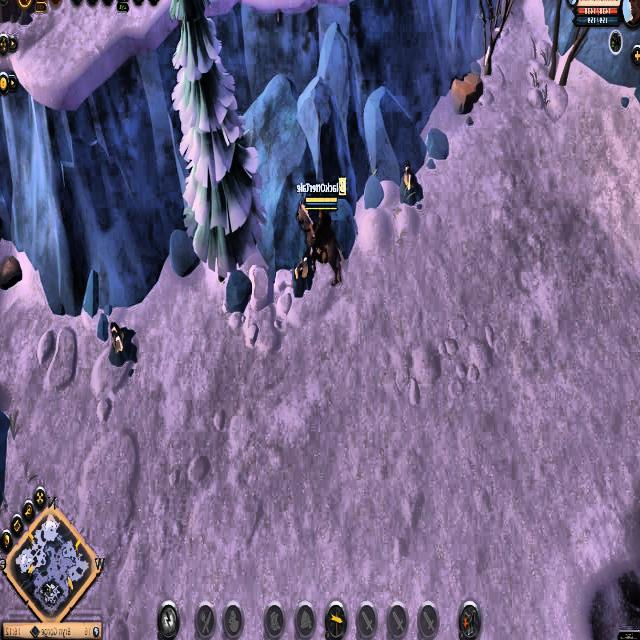copperore: (106, 318, 138, 368), (396, 160, 424, 210), (289, 252, 316, 298)
limestone: (449, 68, 487, 114), (0, 253, 25, 293)
